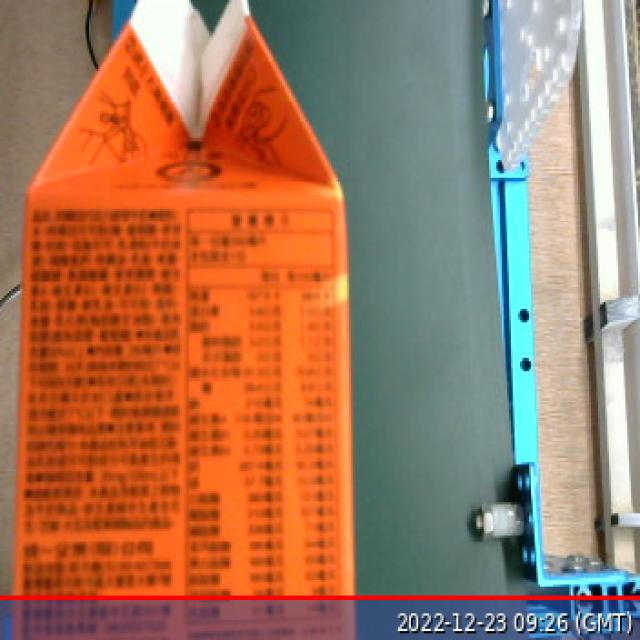non_white_jug: (2, 0, 367, 640)
